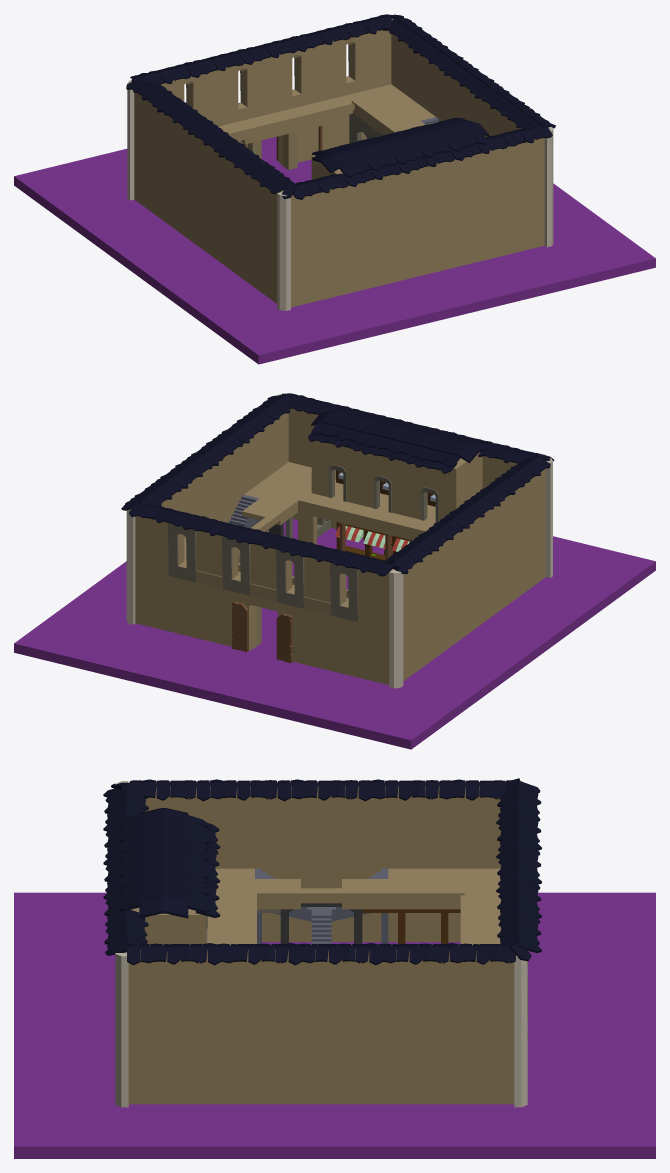
Rendered from kervansaray.fbx.
3 renders of one model, top to bottom at view 1: azimuth 30°, elevation 25°; view 2: azimuth 150°, elevation 25°; view 3: azimuth 270°, elevation 25°, orthographic. The views are drawn at different scales.
Parts seen in each view (by area): view 1: ground, AA celiing, AA middle, roofs, pillars, door pillars, frames; view 2: ground, AA middle, AA celiing, roofs, pillars, door, shop frame, door frames; view 3: ground, AA celiing, AA middle, roofs, pillars, side stair a 2, frames, door frame.001, side stair A 1.
Part boxes in pixels (<box>): ground: <box>14,137,655,364</box>; AA celiing: <box>134,19,544,251</box>; AA middle: <box>134,84,544,307</box>; roofs: <box>126,14,555,199</box>; pillars: <box>127,80,553,310</box>; door pillars: <box>247,132,297,169</box>; frames: <box>349,113,382,143</box>; ground: <box>14,518,655,749</box>; AA middle: <box>135,440,545,684</box>; AA celiing: <box>135,408,545,629</box>; roofs: <box>121,393,553,576</box>; pillars: <box>126,394,552,688</box>; door: <box>232,601,292,663</box>; shop frame: <box>335,522,412,560</box>; door frames: <box>328,464,438,522</box>; ground: <box>14,892,655,1158</box>; AA celiing: <box>124,786,514,1031</box>; AA middle: <box>128,868,514,1104</box>; roofs: <box>103,778,542,965</box>; pillars: <box>115,781,527,1107</box>; side stair a 2: <box>255,868,388,943</box>; frames: <box>257,909,460,944</box>; door frame.001: <box>280,903,362,943</box>; side stair A 1: <box>311,909,331,944</box>.
Size of the model in its own units: 9010 by 2947 by 9612.
